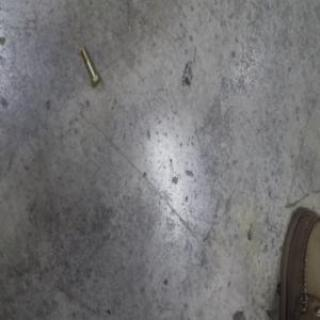Bolttrack_idkeyframe: (78, 44, 99, 90)
